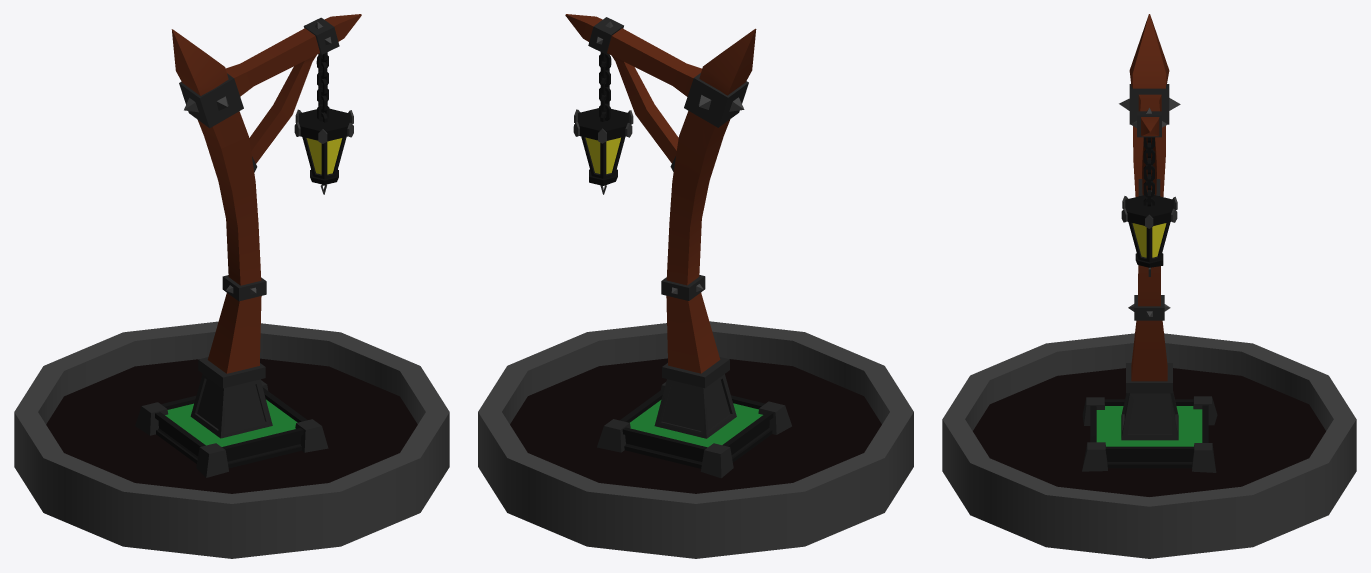
3 renders of one model, left to right at view 1: azimuth 30°, elevation 25°; view 2: azimuth 150°, elevation 25°; view 3: azimuth 270°, elevation 25°, orthographic. The views are drawn at different scales.
Parts seen in each view (by area): view 1: pCylinder1 (×2), uvlayout_pCube1, pCube2 (×2), pCube15, pCube11, pCube13, pCube10, uvl4472_uvlayout_pCylinder1 (×2), uvl4472_uvlayout_pCylinder2, pCube3, pCube5, uvl4472_uvlayout_pCube6 (+3 smaller); view 2: pCylinder1 (×2), uvlayout_pCube1, pCube2 (×2), pCube15, pCube11, pCube13, pCube10, uvl4472_uvlayout_pCylinder1 (×2), uvl4472_uvlayout_pCylinder2, pCube3, uvl4472_uvlayout_pCube8, uvl4472_uvlayout_pCube7 (+3 smaller); view 3: pCylinder1 (×2), uvlayout_pCube1, pCube2 (×2), pCube15, uvl4472_uvlayout_pCylinder1 (×2), uvl4472_uvlayout_pCylinder2, pCube3, pCube10, pCube11, uvl4472_uvlayout_pCube6, uvl4472_uvlayout_pCube7, pCube9.
Part boxes in pixels (left/top/right/bottom): pCylinder1 (×2): left=14, top=321, right=449, bottom=558; uvlayout_pCube1: left=171, top=29, right=261, bottom=373; pCube2 (×2): left=155, top=387, right=307, bottom=468; pCube15: left=190, top=374, right=272, bottom=438; pCube11: left=225, top=14, right=361, bottom=96; pCube13: left=249, top=55, right=316, bottom=163; pCube10: left=179, top=73, right=243, bottom=128; uvl4472_uvlayout_pCylinder1 (×2): left=302, top=137, right=346, bottom=178; uvl4472_uvlayout_pCylinder2: left=299, top=108, right=349, bottom=141; pCube3: left=198, top=357, right=265, bottom=388; pCube5: left=196, top=443, right=228, bottom=477; uvl4472_uvlayout_pCube6: left=295, top=419, right=328, bottom=452; pCylinder1 (×2): left=478, top=321, right=913, bottom=558; uvlayout_pCube1: left=666, top=28, right=756, bottom=373; pCube2 (×2): left=620, top=387, right=773, bottom=468; pCube15: left=654, top=374, right=736, bottom=438; pCube11: left=565, top=14, right=701, bottom=96; pCube13: left=612, top=56, right=678, bottom=163; pCube10: left=684, top=73, right=748, bottom=127; uvl4472_uvlayout_pCylinder1 (×2): left=581, top=136, right=625, bottom=178; uvl4472_uvlayout_pCylinder2: left=578, top=108, right=628, bottom=140; pCube3: left=662, top=357, right=729, bottom=388; uvl4472_uvlayout_pCube8: left=700, top=443, right=733, bottom=478; uvl4472_uvlayout_pCube7: left=597, top=419, right=630, bottom=452; pCylinder1 (×2): left=942, top=333, right=1356, bottom=558; uvlayout_pCube1: left=1129, top=14, right=1169, bottom=381; pCube2 (×2): left=1090, top=399, right=1208, bottom=468; pCube15: left=1121, top=391, right=1178, bottom=440; uvl4472_uvlayout_pCylinder1 (×2): left=1128, top=222, right=1170, bottom=262; uvl4472_uvlayout_pCylinder2: left=1125, top=195, right=1173, bottom=225; pCube3: left=1126, top=363, right=1172, bottom=393; pCube10: left=1129, top=84, right=1169, bottom=124; pCube11: left=1138, top=94, right=1161, bottom=136; uvl4472_uvlayout_pCube6: left=1082, top=442, right=1107, bottom=471; uvl4472_uvlayout_pCube7: left=1192, top=443, right=1216, bottom=472; pCube9: left=1134, top=295, right=1164, bottom=320.
Bounding box in the file's own units: 1.75 × 2 × 1.75.
